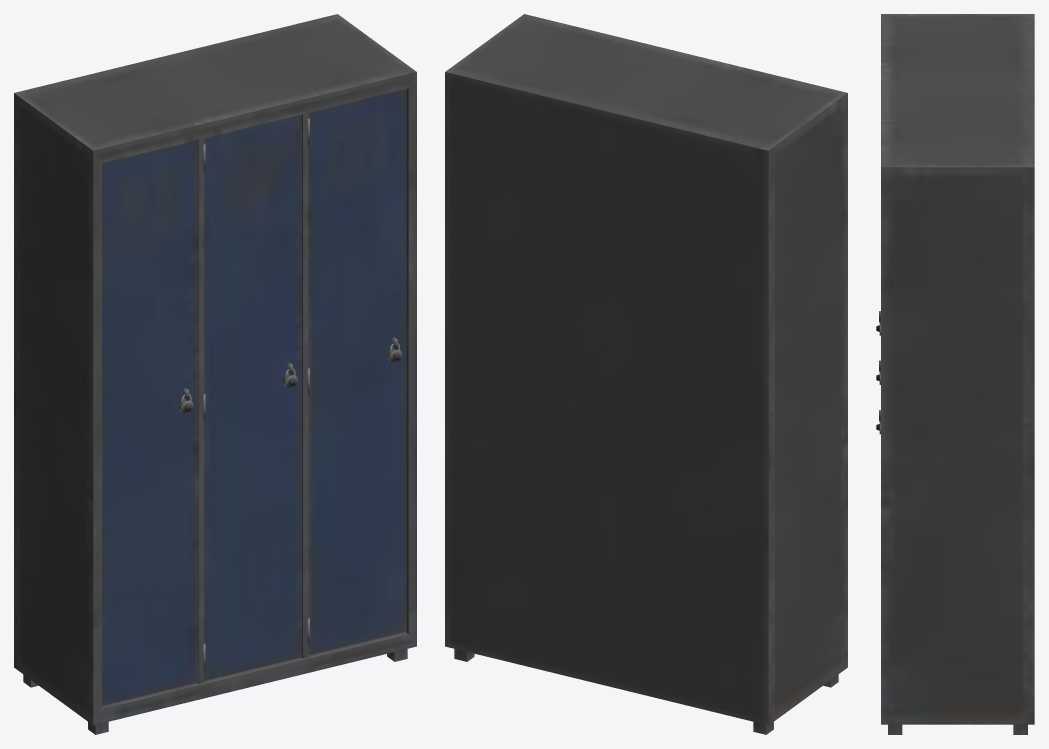
File: locker-blue--1.gltf
The picture shows the model from 3 angles, left to right: view 1: azimuth 30°, elevation 25°; view 2: azimuth 150°, elevation 25°; view 3: azimuth 270°, elevation 25°; orthographic projection. The views are drawn at different scales.
Visible parts, largest first — view 1: part-1; view 2: part-1; view 3: part-1.
Boxes of the visible parts, <box> form: part-1: <box>14,14,416,734</box>; part-1: <box>445,14,847,734</box>; part-1: <box>876,14,1034,734</box>.
Size of the model in its own units: 1.05 by 1.83 by 0.4609.
1 material, 1 textured.
